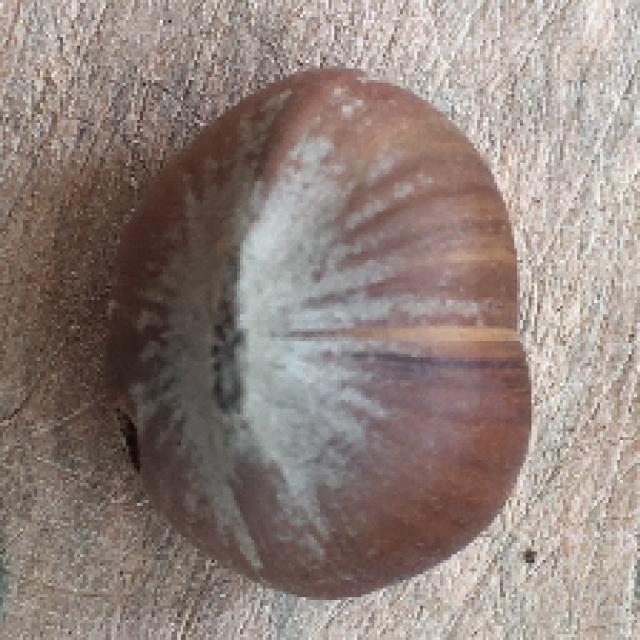damagedHazelnut: (95, 69, 542, 598)
